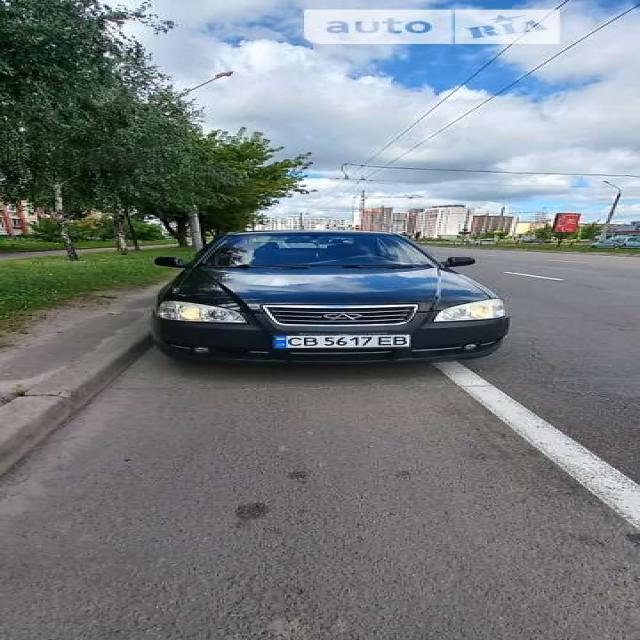plate: (264, 327, 430, 356)
